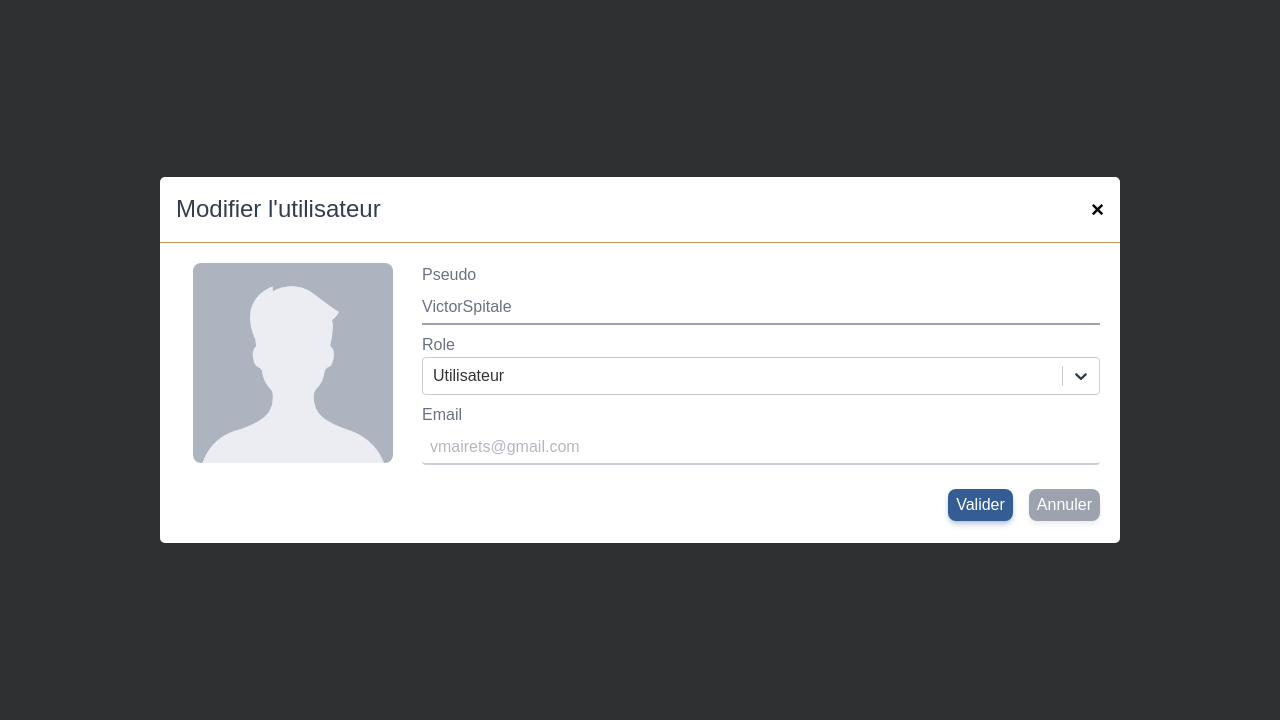
Test: UpdateUserModalTest › should not update user if the logged user is the same
This screenshot has width=1280, height=720.
Click the button "Valider" at [980, 505], box x1=948 y1=489 x2=1013 y2=521
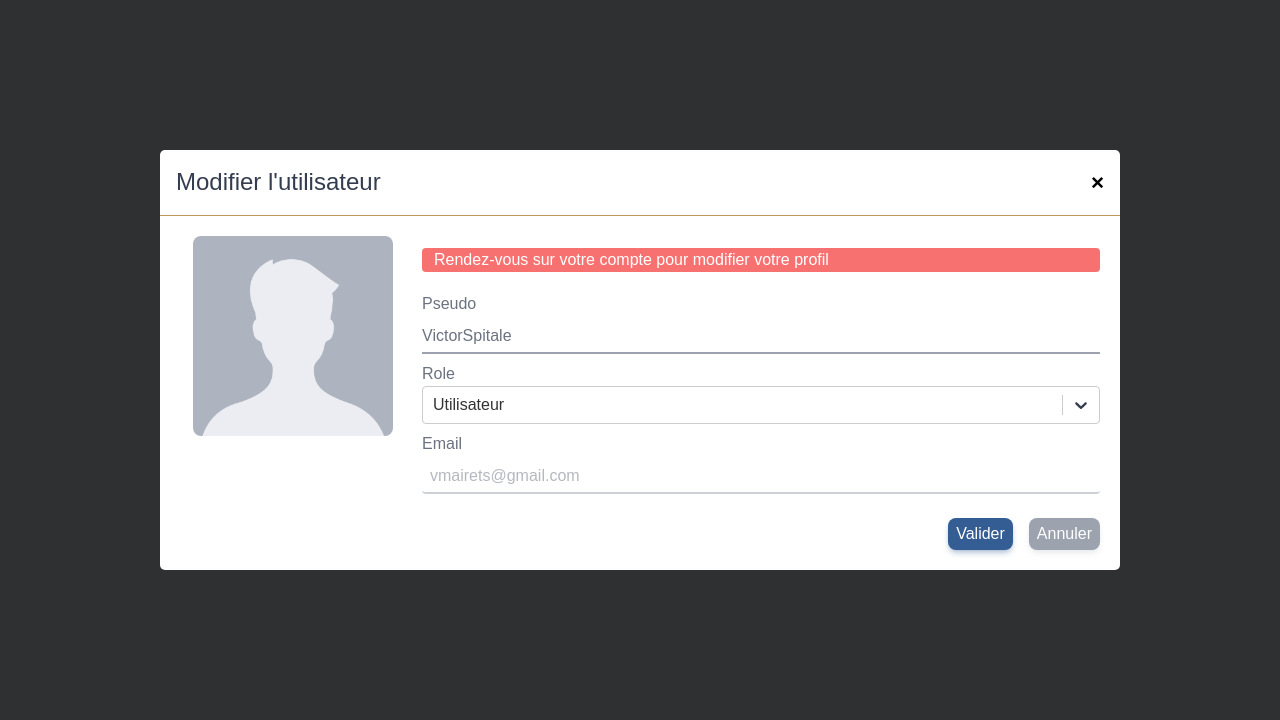
expect the text "Rendez-vous sur votre compte pour modifier votre profil" is shown: met, box x1=422 y1=248 x2=1100 y2=272
